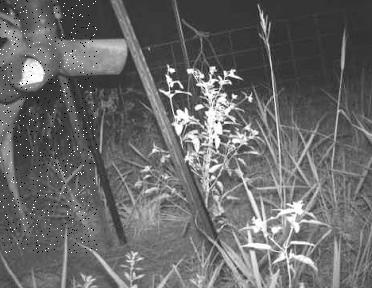Deer: (0, 0, 97, 253)
